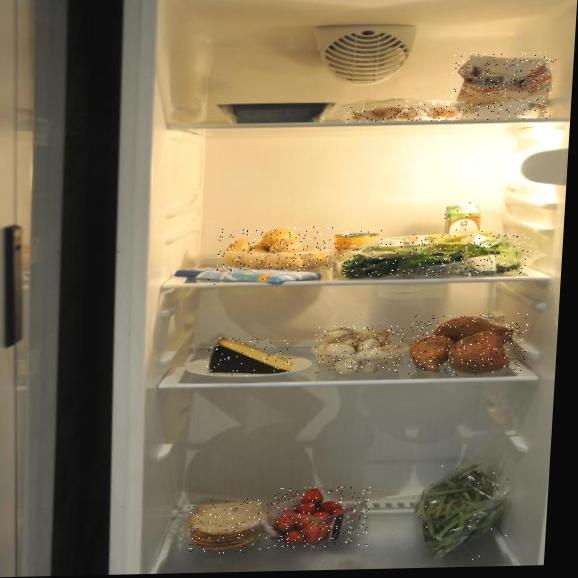bread: (186, 498, 271, 554)
cheese: (206, 337, 293, 376)
chocolate: (171, 263, 326, 286)
corn: (329, 230, 382, 278)
flour: (449, 52, 556, 121)
green_beans: (413, 463, 514, 561)
heavy_cream: (442, 200, 485, 265)
mushrooms: (313, 324, 406, 375)
potato: (217, 226, 337, 272)
shrimp: (346, 104, 460, 123)
spinach: (335, 232, 530, 278)
strawberries: (267, 487, 371, 549)
sweet_potato: (408, 313, 529, 376)
